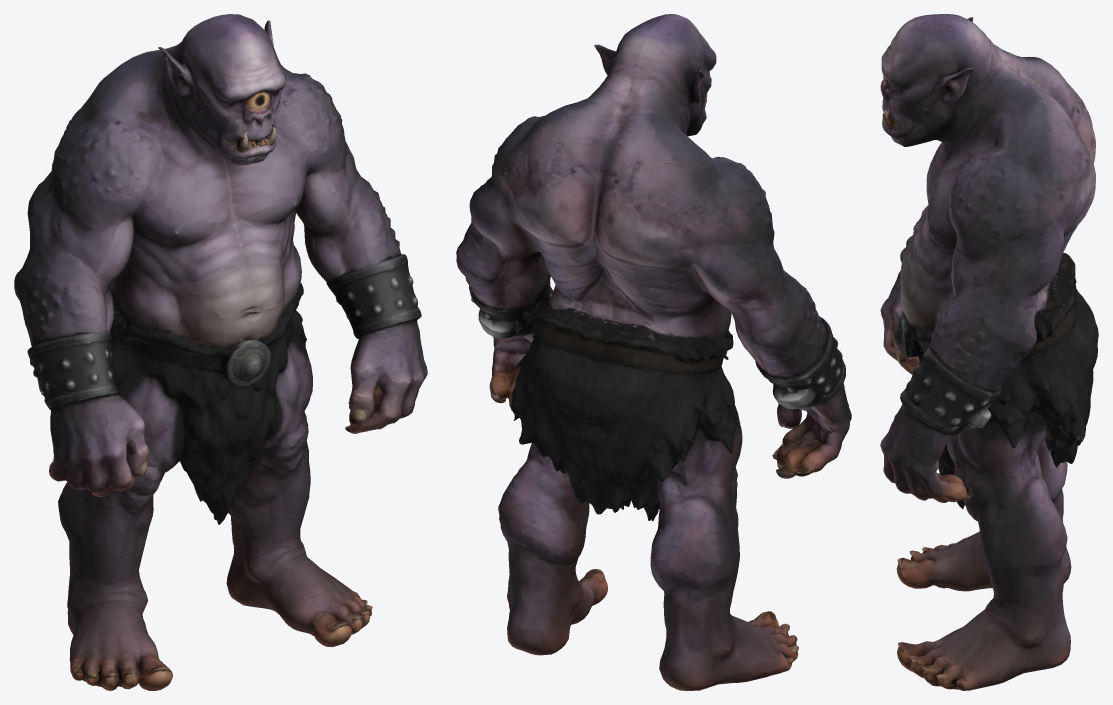
File: cyclops__cyclopean-guardian.glb
3 renders of one model, left to right at view 1: azimuth 30°, elevation 25°; view 2: azimuth 150°, elevation 25°; view 3: azimuth 270°, elevation 25°, orthographic. The views are drawn at different scales.
Size of the model in its own units: 1.15 by 1.9 by 0.6129.
Materials: 1 (1 with a texture image).
